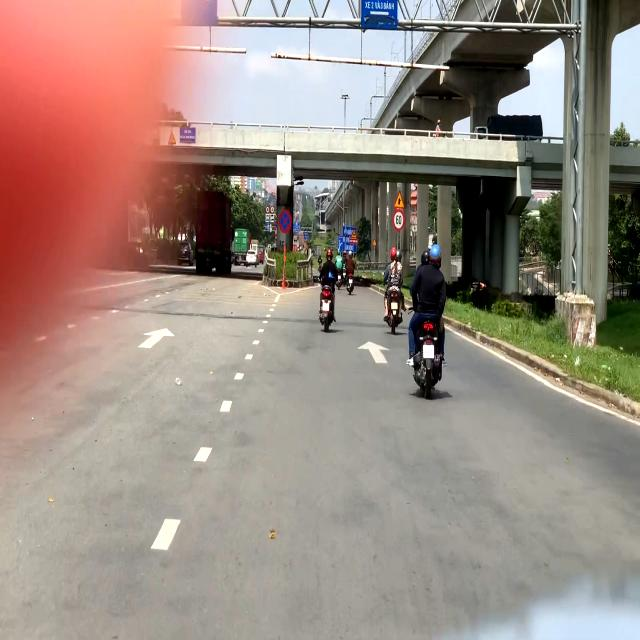P.127: (393, 209, 405, 231)
P.130: (278, 208, 293, 234)
W.207b: (393, 189, 406, 210)
